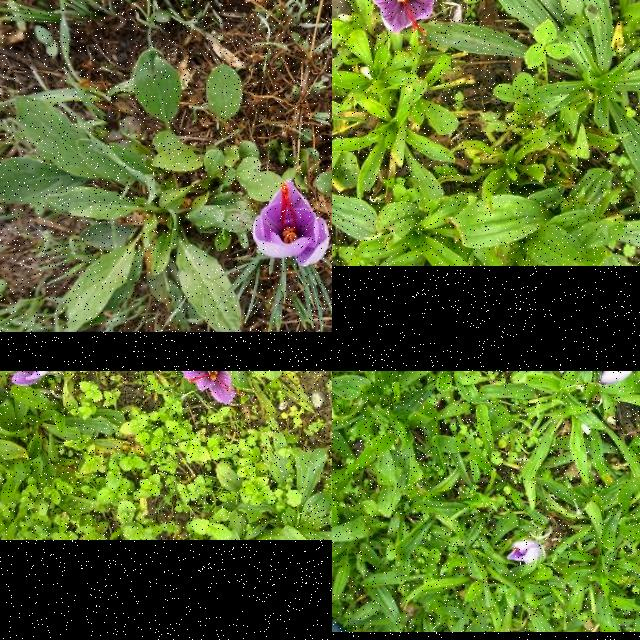flower: (252, 181, 330, 267), (365, 0, 454, 36), (182, 371, 235, 405), (508, 542, 544, 564), (3, 371, 49, 386), (598, 371, 634, 385)
